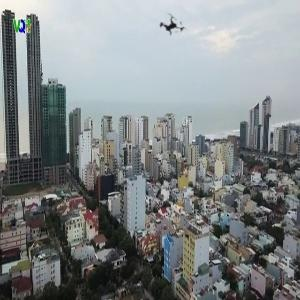drone: (149, 2, 198, 51)
